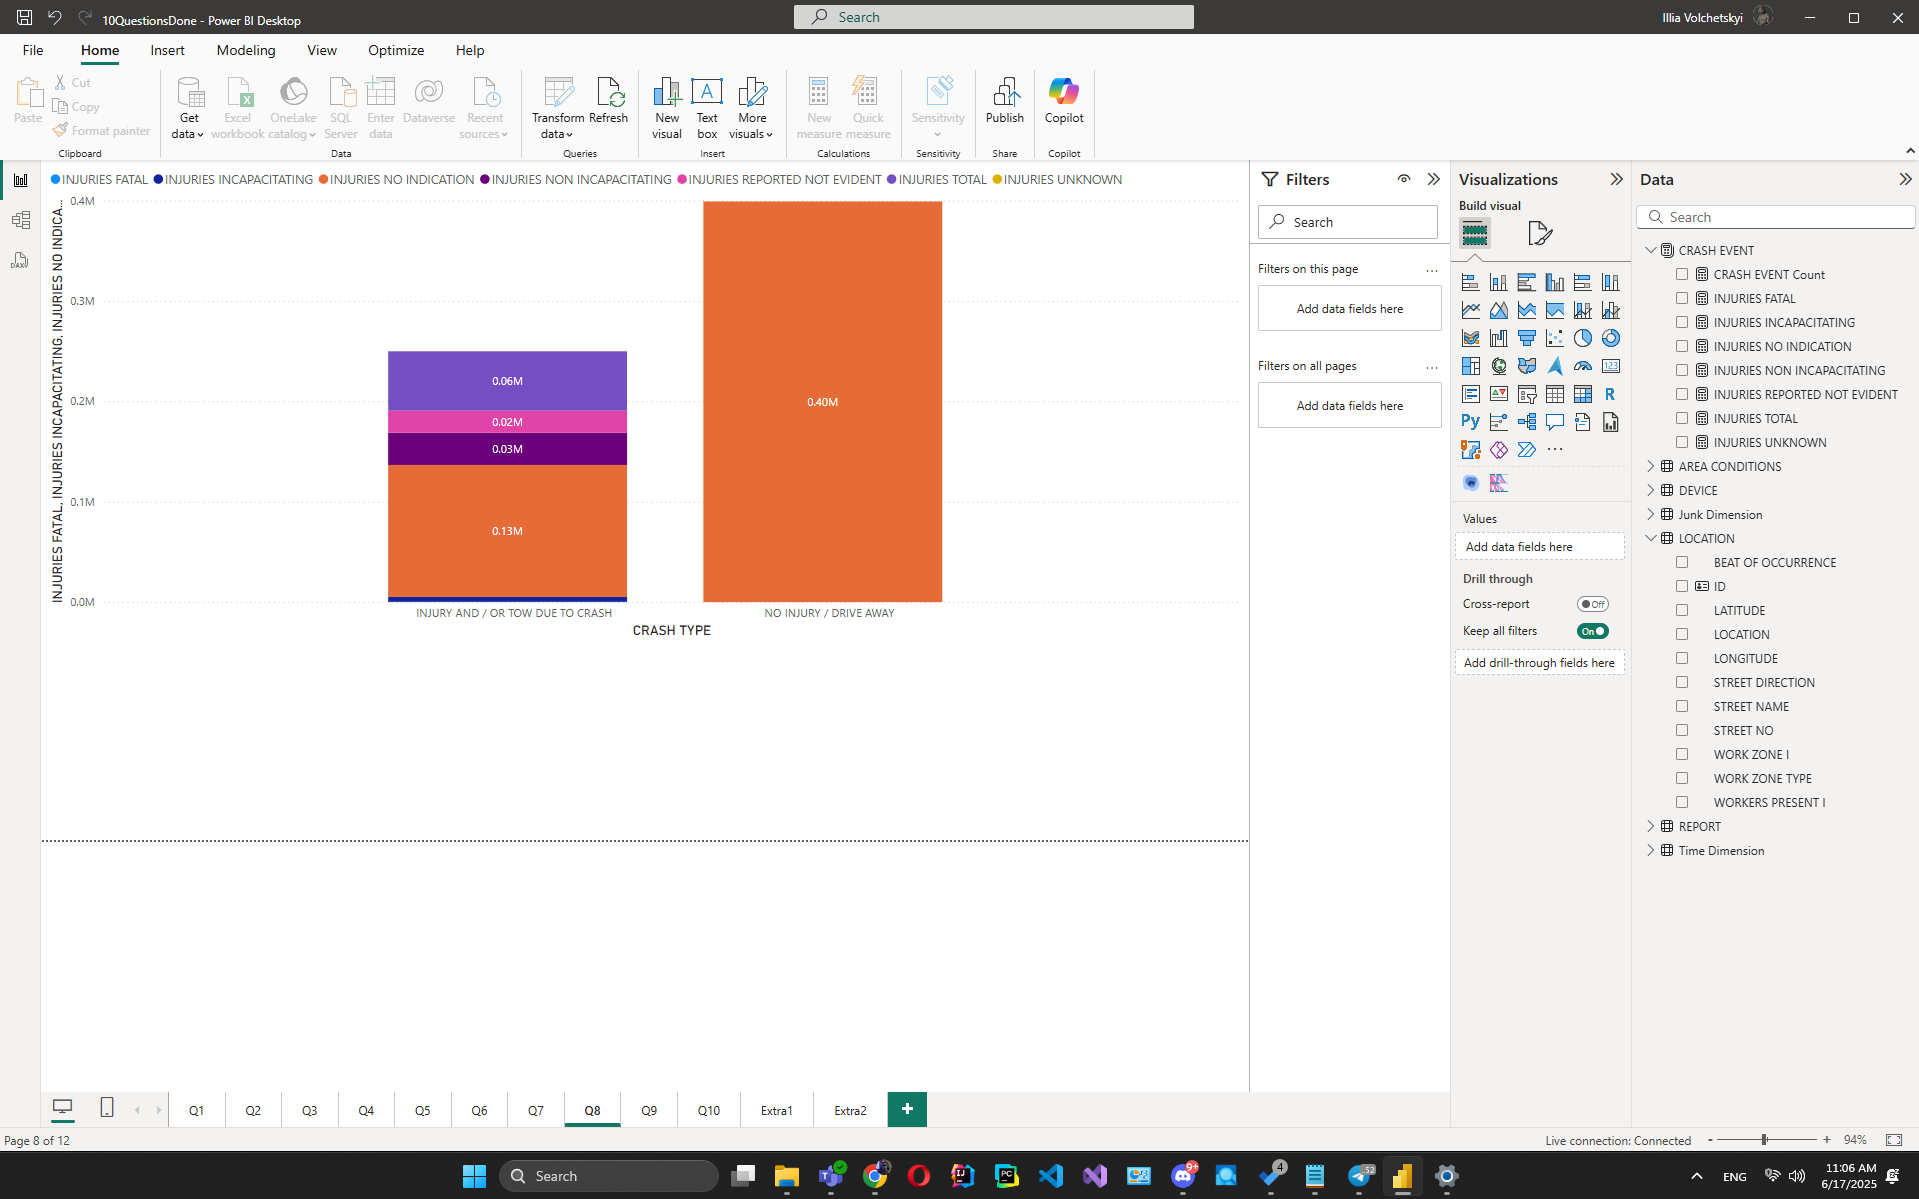

The page's visual inventory and layout, read from the dashboard file:
{"tool":"powerbi","page":{"name":"Q8","canvas":[1280,720],"ordinal":7},"visuals":[{"type":"columnChart","fields":{"Category":["REPORT.CRASH TYPE"],"Y":["CRASH EVENT.INJURIES FATAL","CRASH EVENT.INJURIES INCAPACITATING","CRASH EVENT.INJURIES NO INDICATION","CRASH EVENT.INJURIES NON INCAPACITATING","CRASH EVENT.INJURIES REPORTED NOT EVIDENT","CRASH EVENT.INJURIES TOTAL","CRASH EVENT.INJURIES UNKNOWN"]},"box":[4,0,1271,407],"z":0},{"type":"pieChart","title":"% of fatal injuries from total","fields":{"Y":["CRASH EVENT.INJURIES FATAL","CRASH EVENT.INJURIES TOTAL"]},"box":[4,417,1271,303],"z":1000}]}

Visuals, with their boxes on the page's 1280x720 design canvas (x1, y1, x2, y2). These are canvas units, not pixel positions in the 1919x1199 screenshot, which may show the page scaled, cropped or inside an application window:
columnChart - REPORT.CRASH TYPE x CRASH EVENT.INJURIES FATAL: [left=4, top=0, right=1275, bottom=407]
"% of fatal injuries from total" pieChart: [left=4, top=417, right=1275, bottom=720]
